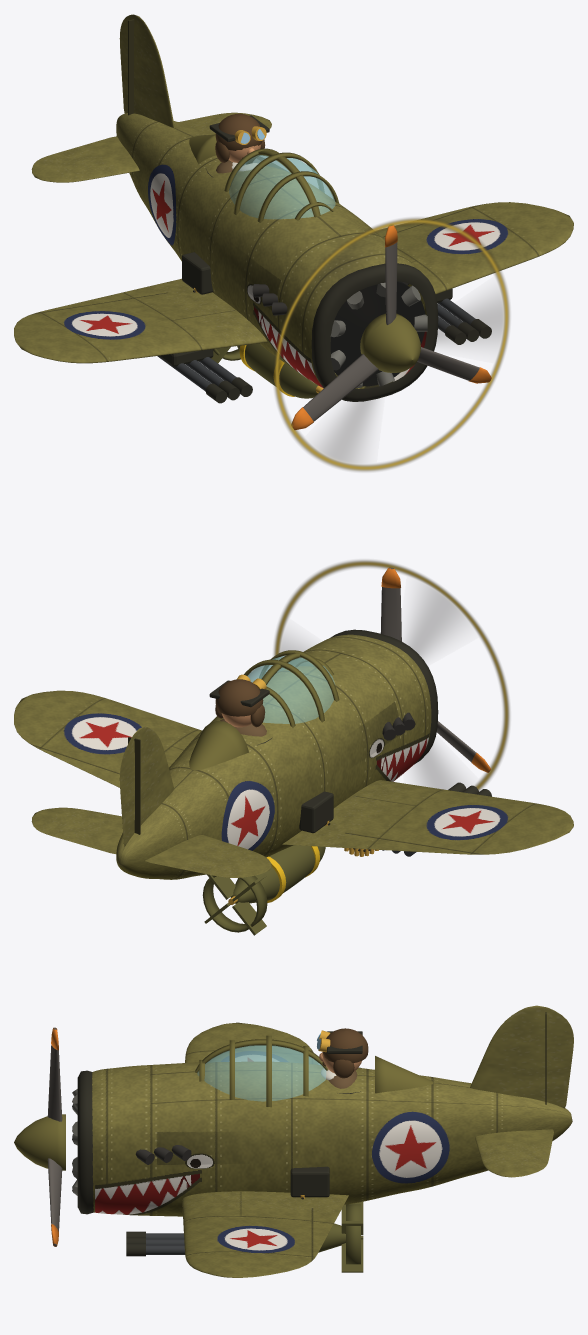
Rendered from fighter.glb.
3 renders of one model, top to bottom at view 1: azimuth 30°, elevation 25°; view 2: azimuth 150°, elevation 25°; view 3: azimuth 270°, elevation 25°, orthographic. The views are drawn at different scales.
Parts seen in each view (by area): view 1: FighterBody, FighterPropDisc, FighterProp, FighterBomb; view 2: FighterBody, FighterPropDisc, FighterBomb, FighterProp; view 3: FighterBody, FighterProp, FighterBomb.
Part boxes in pixels (x1,y1,x2,y2): FighterBody: (14, 14, 573, 403); FighterPropDisc: (273, 217, 509, 471); FighterProp: (291, 225, 491, 430); FighterBomb: (211, 343, 323, 398); FighterBody: (14, 629, 573, 879); FighterPropDisc: (273, 560, 509, 790); FighterBomb: (202, 845, 325, 935); FighterProp: (380, 567, 490, 772); FighterBody: (72, 1005, 573, 1277); FighterProp: (14, 1027, 65, 1246); FighterBomb: (318, 1201, 363, 1272).
Bounding box in the file's own units: 5.59 × 2.64 × 5.18.
21 materials, 3 textured.
